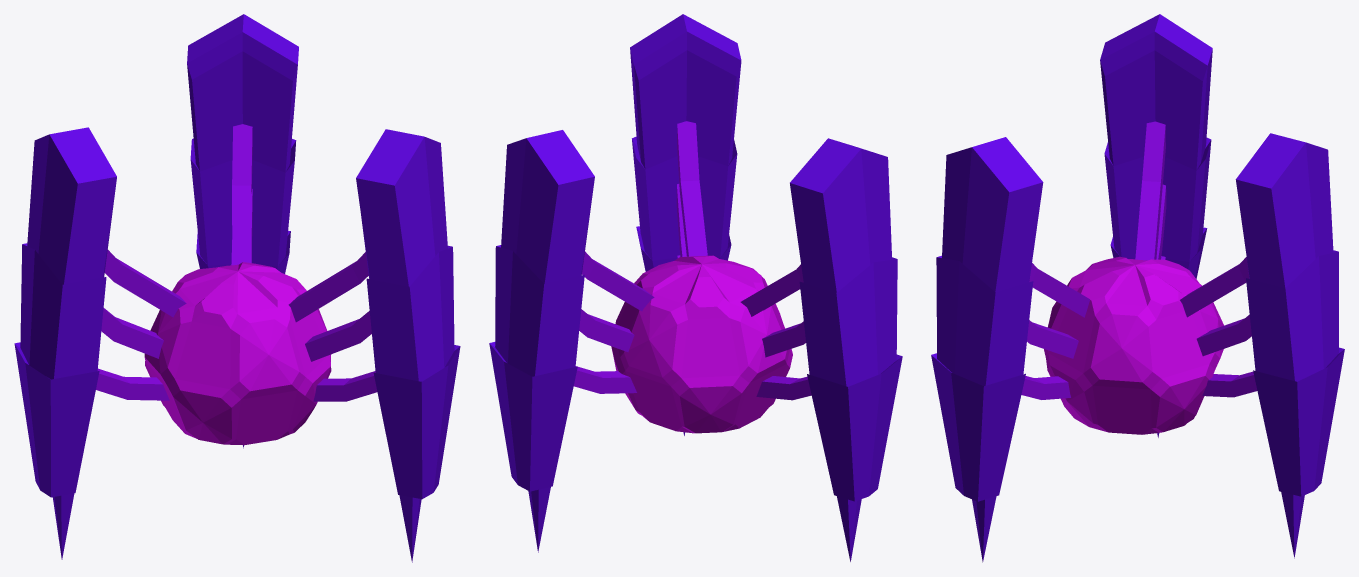
The model's file is LightMob.fbx.
The picture shows the model from 3 angles, left to right: view 1: azimuth 30°, elevation 25°; view 2: azimuth 150°, elevation 25°; view 3: azimuth 270°, elevation 25°; orthographic projection. The views are drawn at different scales.
Parts seen in each view (by area): view 1: Cube.003, Cube.002, Sphere, Cube, Cube.001, Cube.005, Cube.004; view 2: Cube.002, Cube, Sphere, Cube.003, Cube.004, Cube.001, Cube.005; view 3: Cube.003, Cube, Sphere, Cube.002, Cube.004, Cube.005, Cube.001.
Boxes of the visible parts, x1,y1,x2,y2 form: Cube.003: (356,129,460,562); Cube.002: (14,127,116,559); Sphere: (144,262,331,445); Cube: (187,14,298,448); Cube.001: (96,249,186,400); Cube.005: (288,252,377,401); Cube.004: (231,124,252,265); Cube.002: (790,138,902,561); Cube: (489,130,594,552); Sphere: (611,255,792,433); Cube.003: (630,14,741,435); Cube.004: (574,251,654,393); Cube.001: (740,264,811,400); Cube.005: (676,121,707,258); Cube.003: (931,137,1043,562); Cube: (1235,133,1344,558); Sphere: (1044,256,1223,434); Cube.002: (1100,14,1212,437); Cube.004: (1180,257,1257,397); Cube.005: (1021,263,1089,399); Cube.001: (1135,121,1166,260).
Size of the model in its own units: 24.52 by 29.24 by 26.17.
